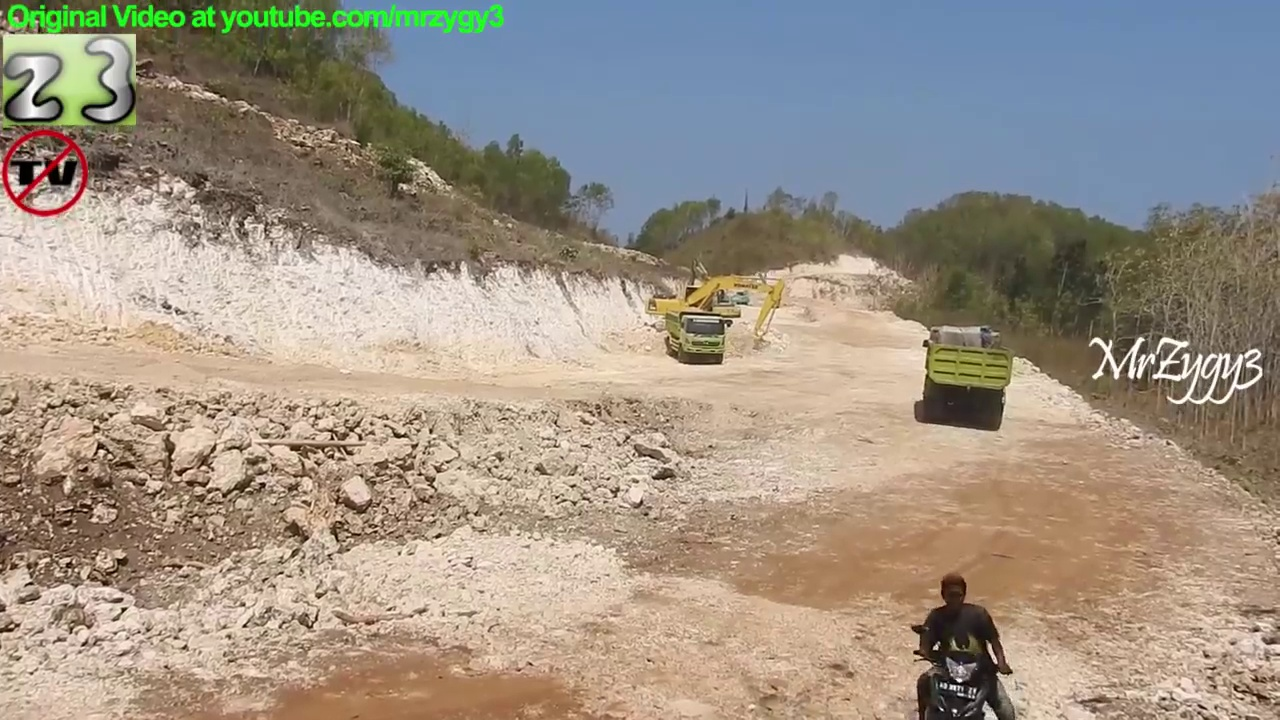excavator: (643, 274, 791, 352), (677, 258, 743, 328), (722, 275, 753, 310)
truck: (917, 319, 1016, 431), (661, 310, 733, 364)
